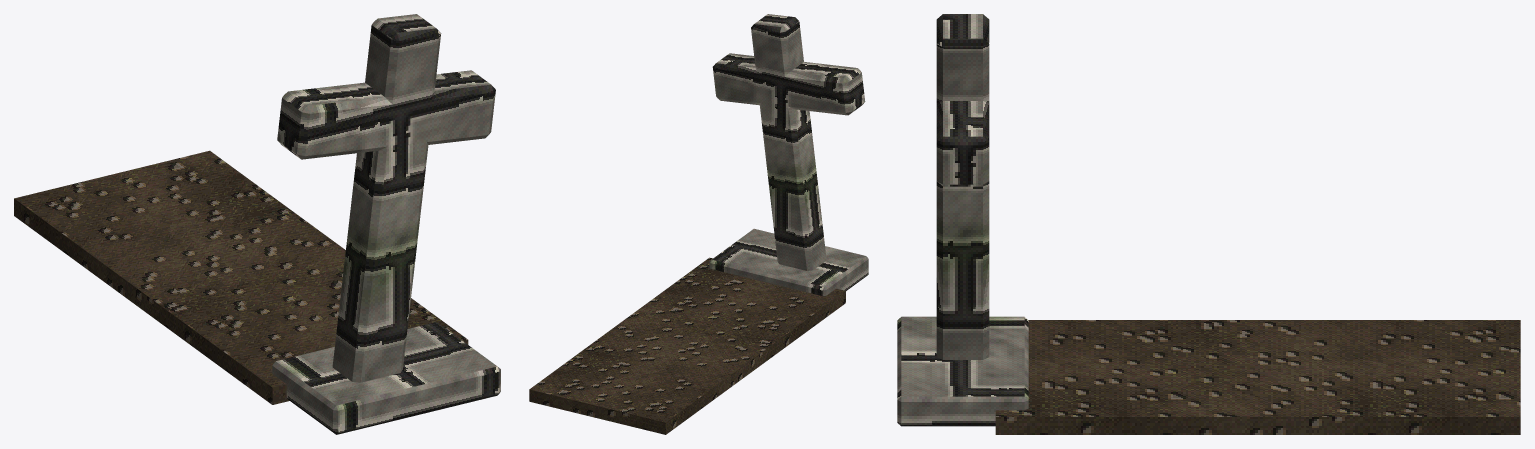
File: prop_grave_cross.glb
3 renders of one model, left to right at view 1: azimuth 30°, elevation 25°; view 2: azimuth 150°, elevation 25°; view 3: azimuth 270°, elevation 25°, orthographic. The views are drawn at different scales.
Parts seen in each view (by area): view 1: prop_grave_cross_mesh; view 2: prop_grave_cross_mesh; view 3: prop_grave_cross_mesh.
Part boxes in pixels (x1,y1,x2,y2): prop_grave_cross_mesh: (14, 14, 500, 434); prop_grave_cross_mesh: (529, 14, 868, 434); prop_grave_cross_mesh: (897, 14, 1520, 434).
Size of the model in its own units: 0.712 by 1.25 by 1.9.
Materials: 2 (2 with a texture image).
